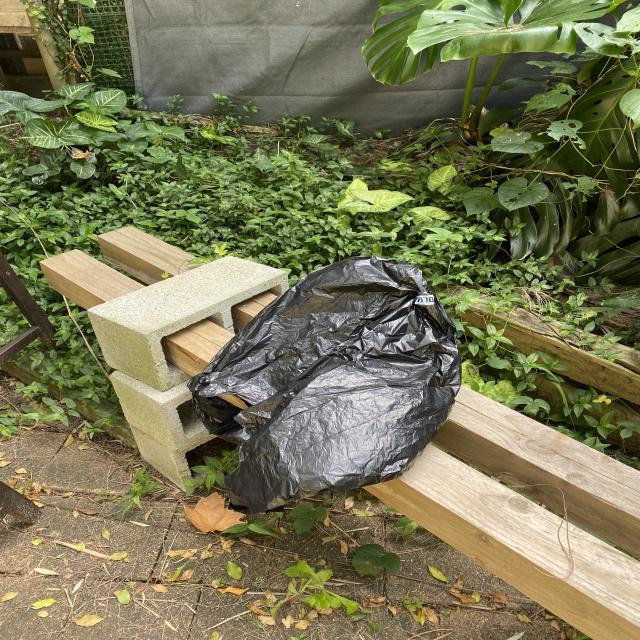bag: (188, 251, 466, 517)
